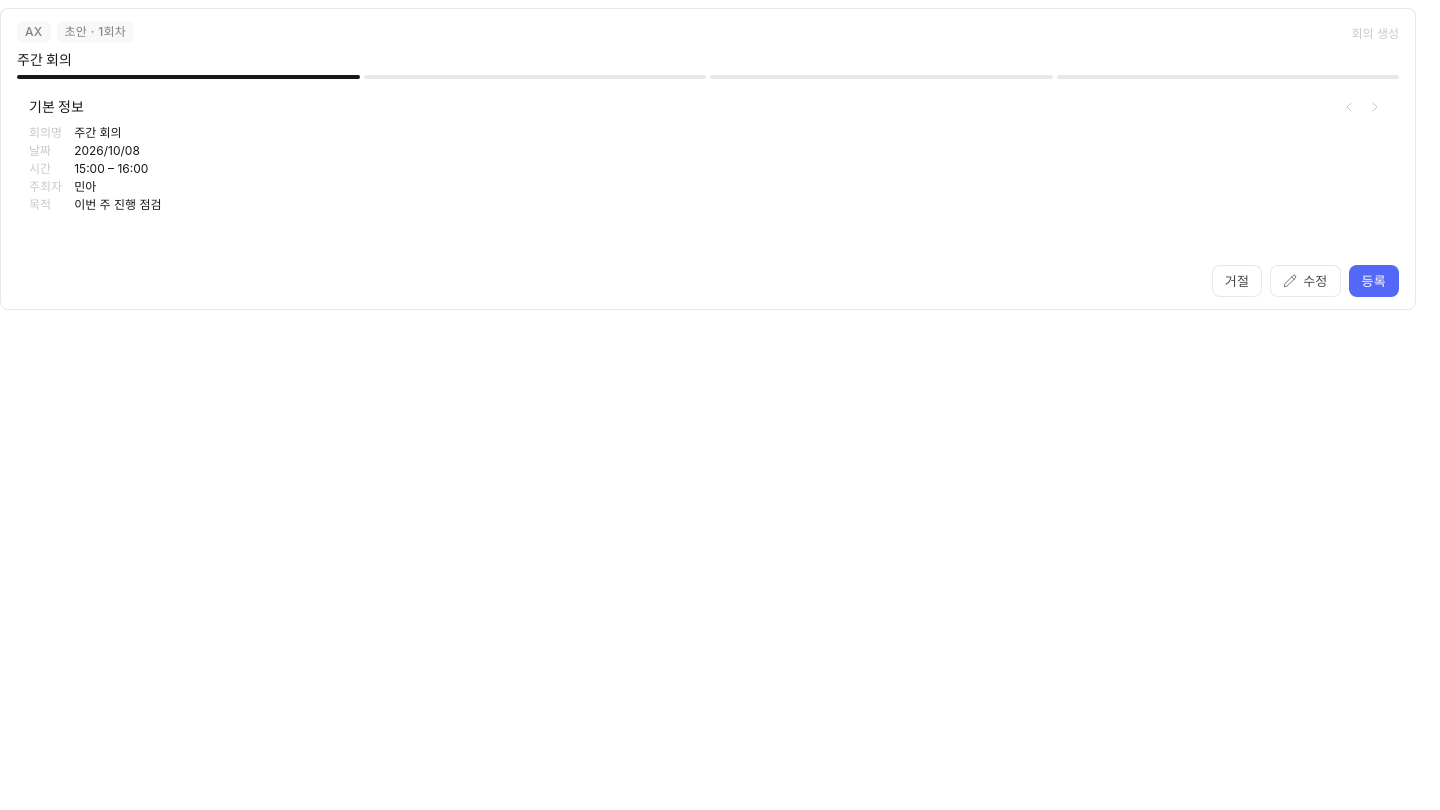
Test: AX 회의 생성 카드 — 명령 › [수정] = 생성 모달이 초안 값으로 열리고, 「저장」 은 회의를 만들지 않고 초안 저장(save_draft)이다
Click the button "수정".
click(1305, 281)  # box [1270, 265, 1341, 297]
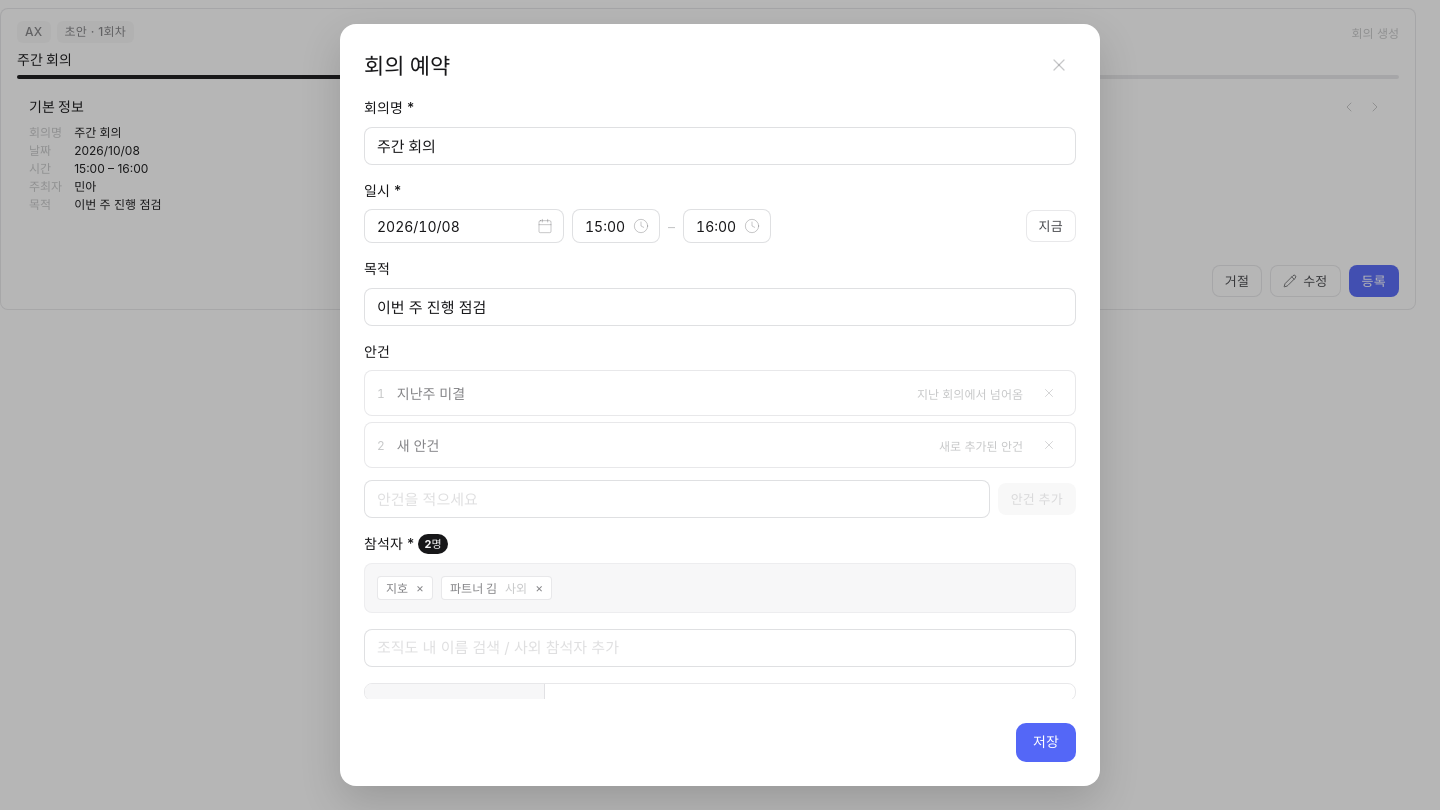
Expected: the field with placeholder "회의명을 적으세요" holds "주간 회의"
Expected: the text "지난주 미결" is shown, [397, 385, 465, 402]
Expected: the text "파트너 김" is shown, [450, 579, 497, 596]
Replace the text in the field with placeholder "회의명을 적으세요" with "주간 회의 (고침)" at (720,146), box [364, 126, 1076, 164]
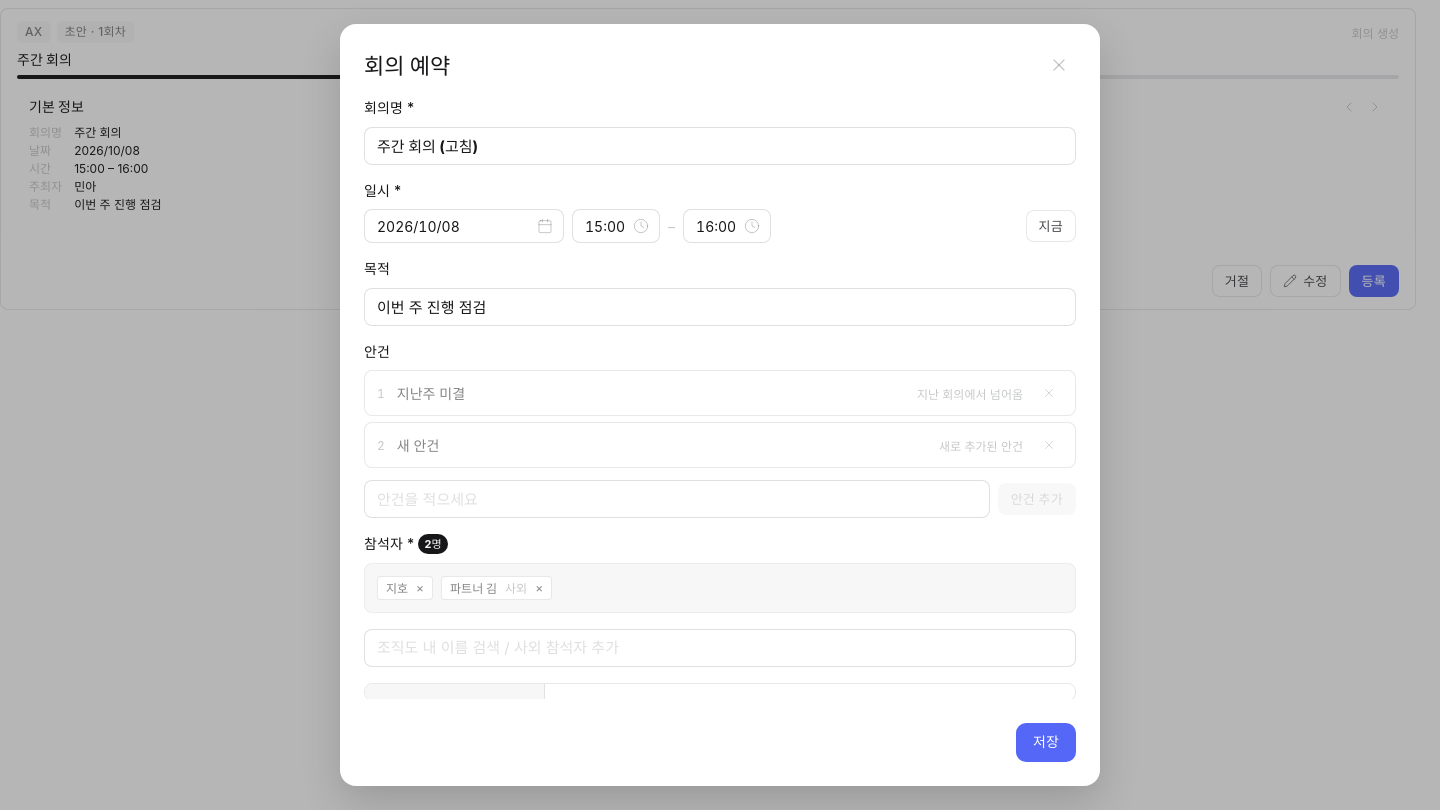
Click the button "저장".
click(1046, 742)  # box [1016, 723, 1076, 762]
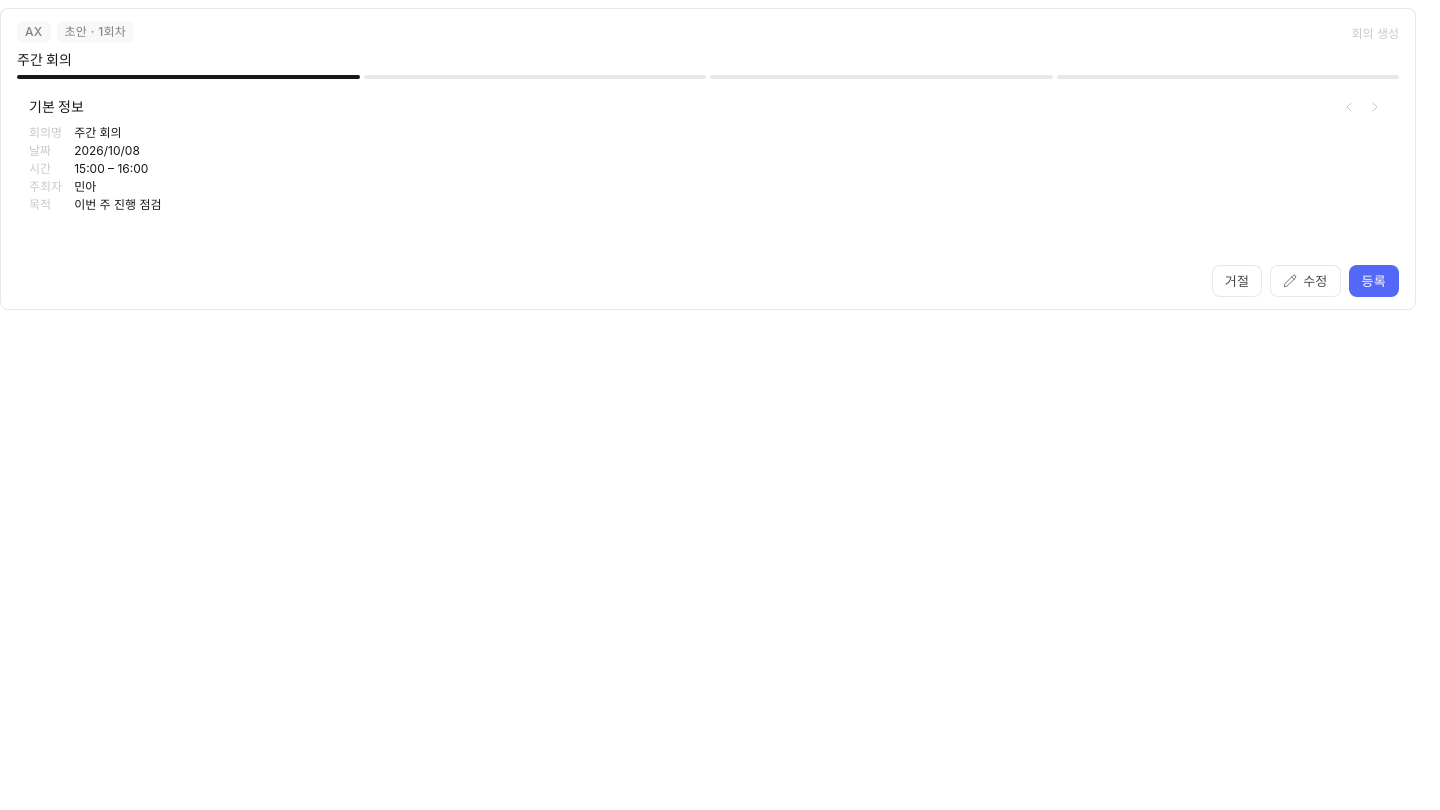
Expected: the heading "회의 예약" is gone
